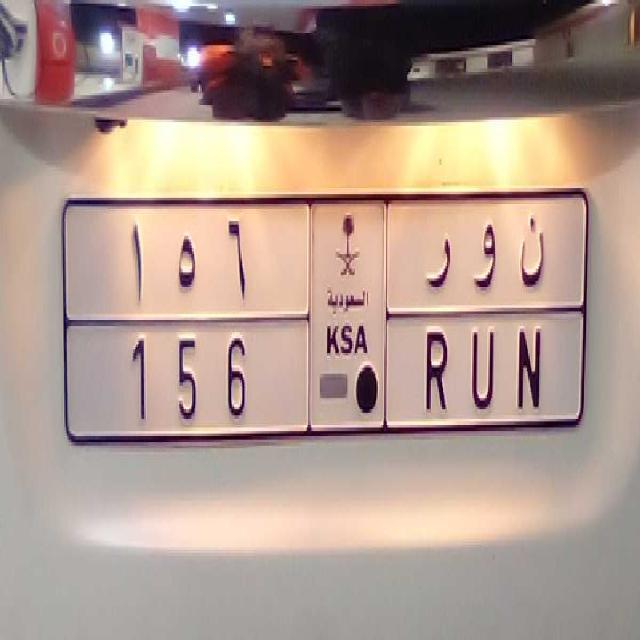license_plate: (94, 316, 566, 438)
